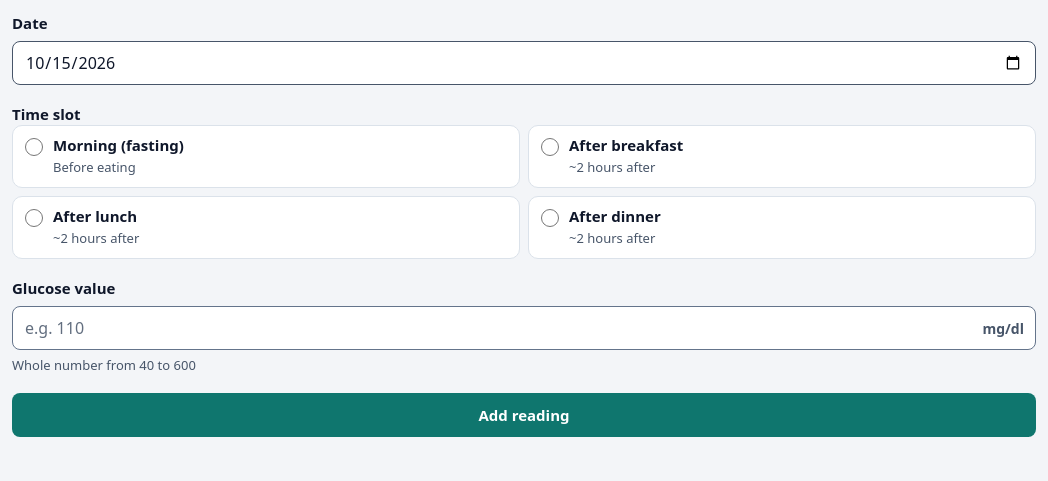
ReadingForm › shows "Please enter a glucose value." when the value is empty
Click the radio button labelled "After lunch ~2 hours after" at x=34, y=218, box left=25, top=209, right=43, bottom=227
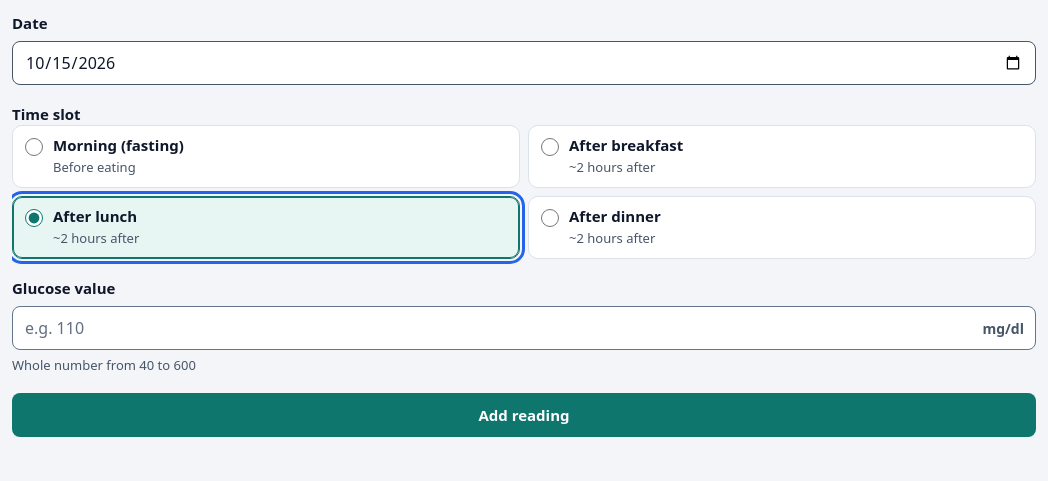
Click the button "Add reading" at x=524, y=415, box left=12, top=393, right=1036, bottom=437
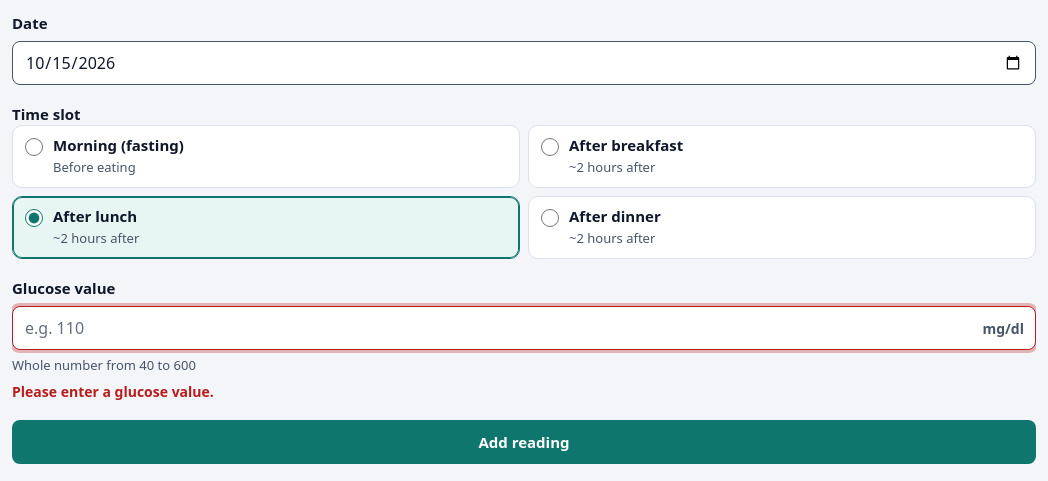
Result: the text "Please enter a glucose value." is shown at left=12, top=382, right=214, bottom=401
